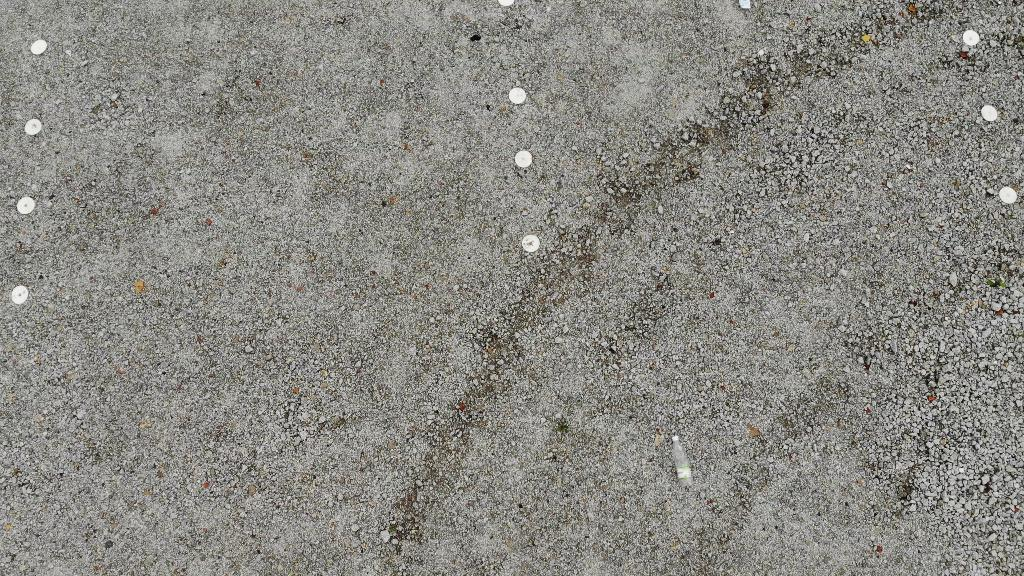garbage: (670, 432, 694, 487)
